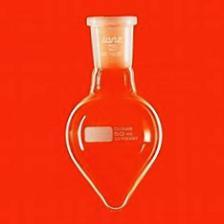Pear shaped flask: (59, 10, 167, 209)
